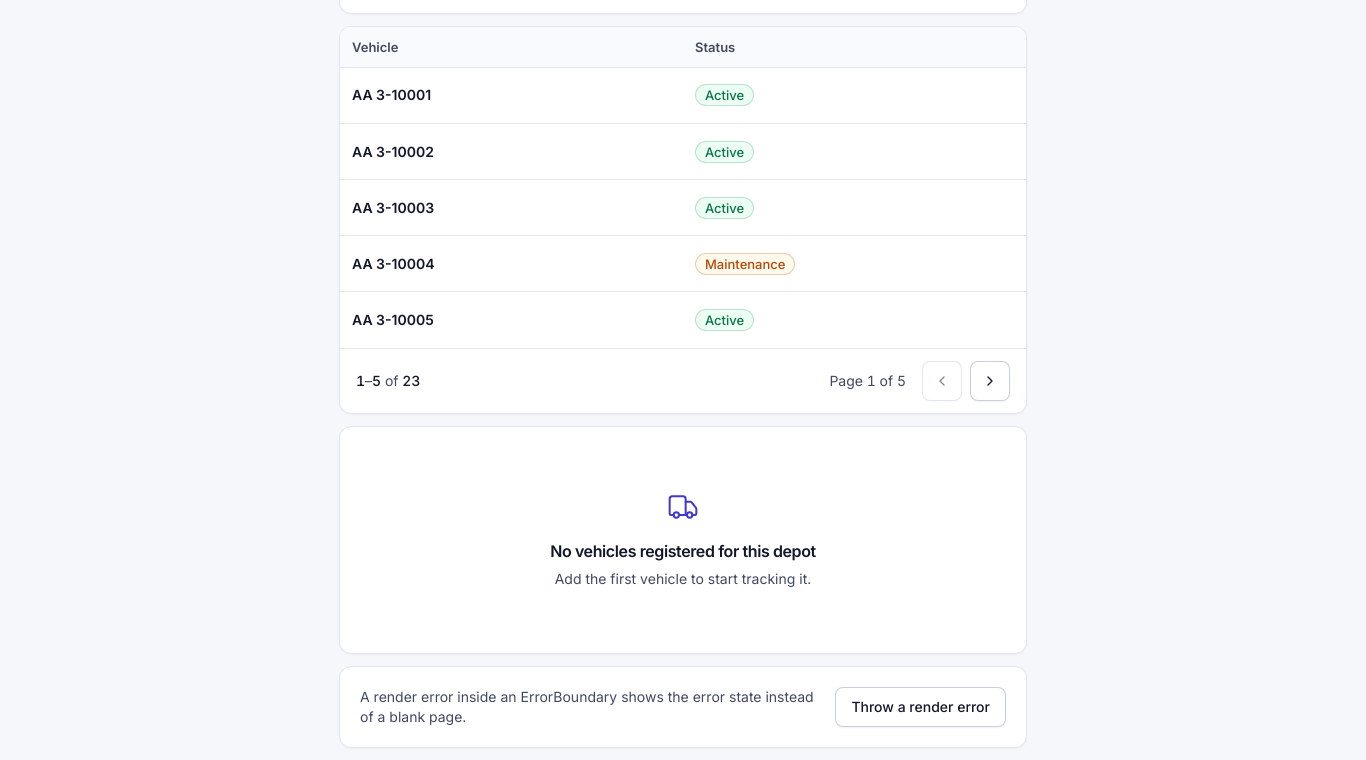
Test case: /dev/ui examples page › shows the table, error boundary and type-to-confirm examples working
This screenshot has width=1366, height=760.
(page scrolled)
Check: the table named "Paging example" is shown, box [340,27,1026,348]
Click the button named "Next page".
click(990, 380)  # box [970,360,1010,400]
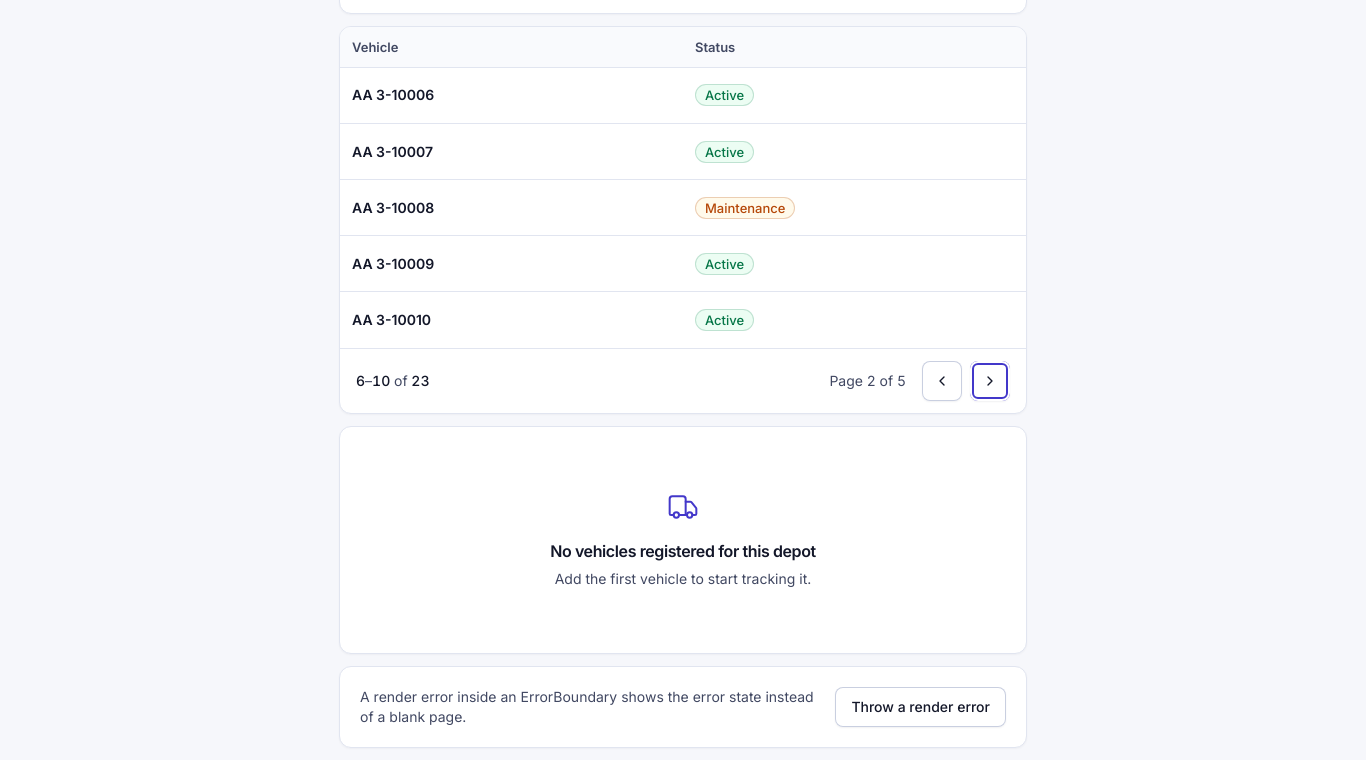
Check: the text "AA 3-10006" is shown, box [352,86,434,103]
Click the button "Throw a render error".
click(921, 706)  # box [835,686,1006,726]
(page scrolled)
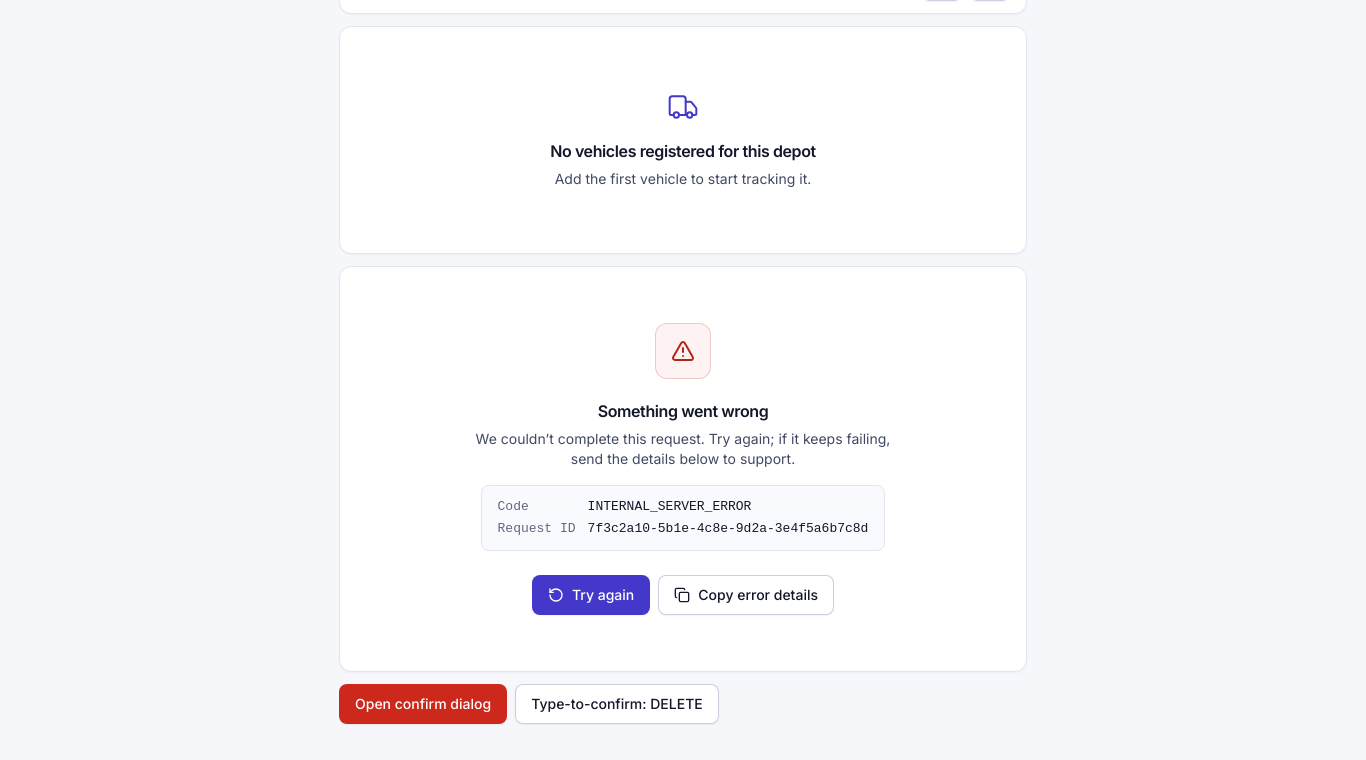
Check: the text "7f3c2a10-5b1e-4c8e-9d2a-3e4f5a6b7c8d" is shown, box [588,520,868,538]
Click the button "Try again".
click(591, 594)  # box [532,574,650,614]
(page scrolled)
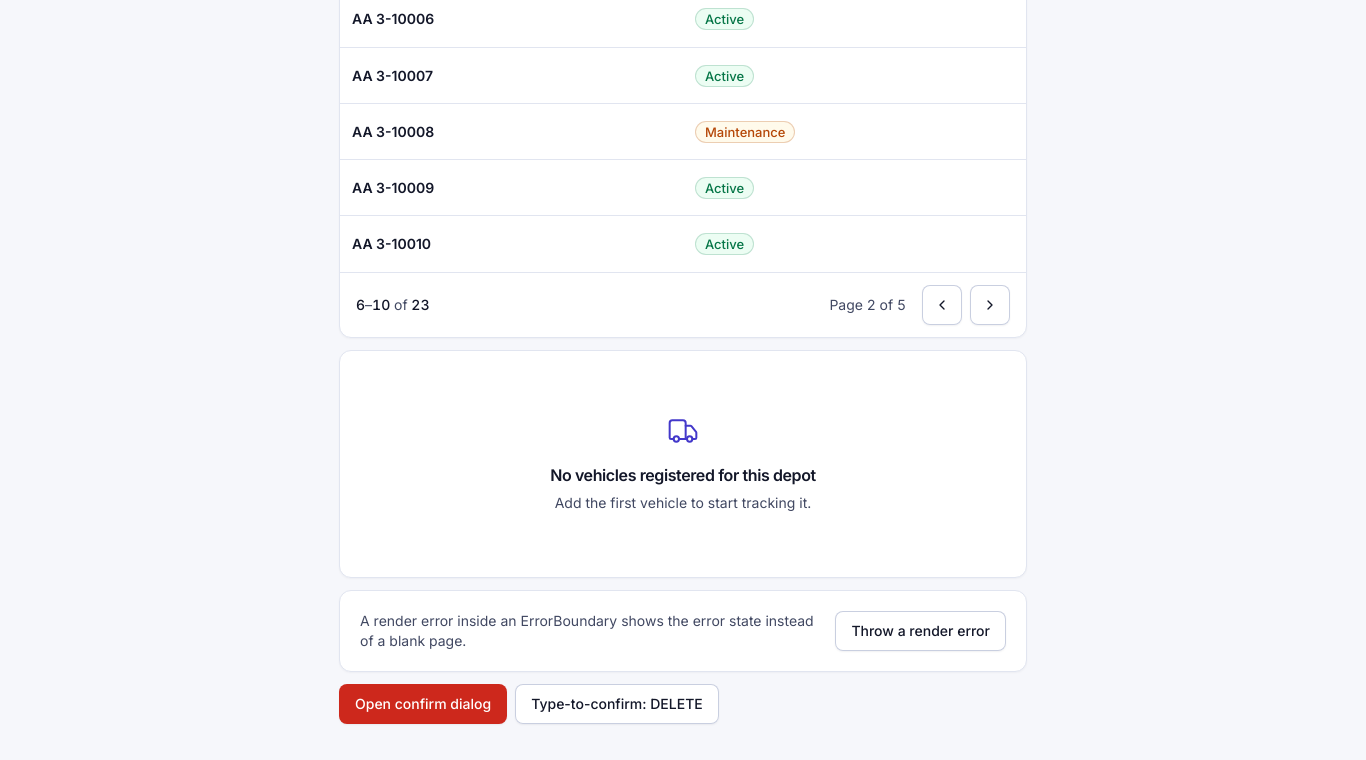
Check: the button "Throw a render error" is shown, box [835,610,1006,650]
Click the button "Type-to-confirm: DELETE".
click(617, 704)  # box [515,684,719,724]
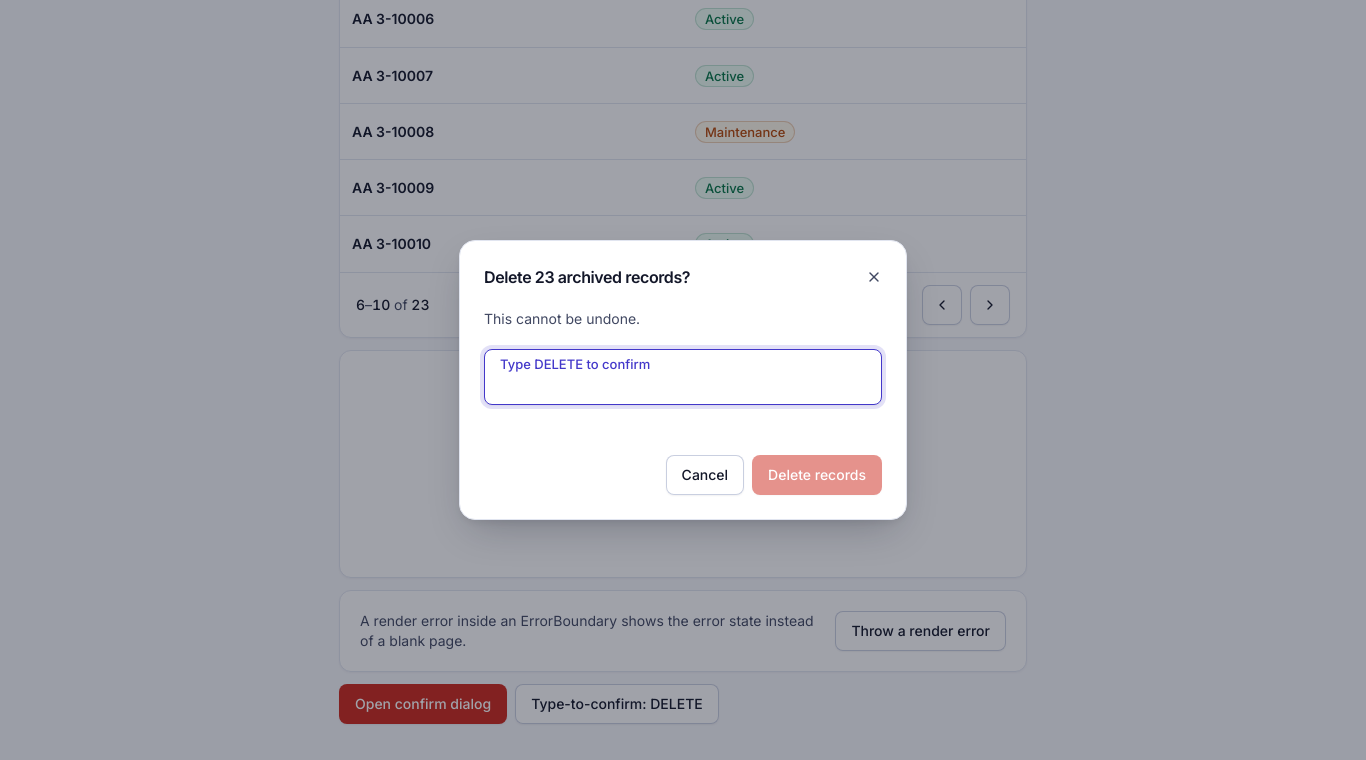
Check: the button "Delete records" is disabled, box [752,455,882,495]
Type "DELETE" into the field labelled "Type DELETE to confirm".
click(683, 377); type("DELETE")  # box [484,349,882,405]
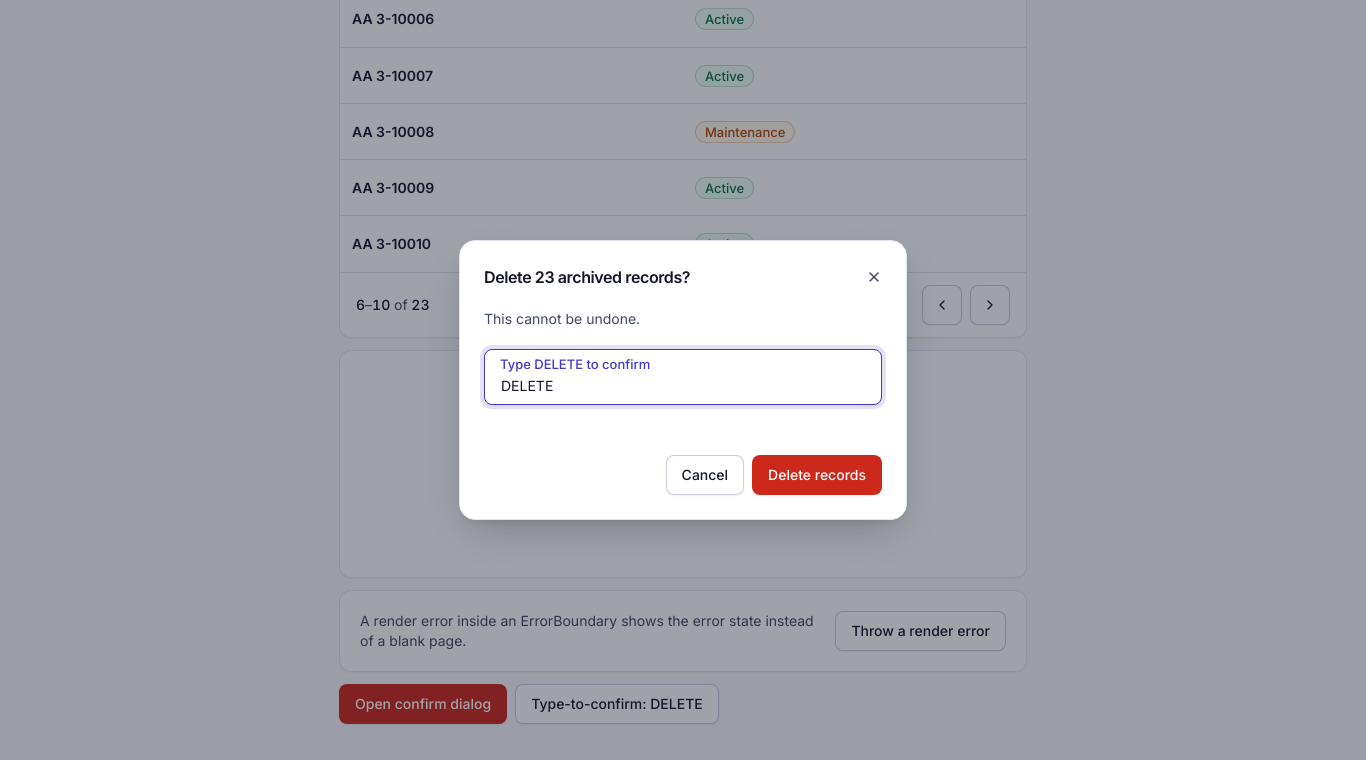
Check: the button "Delete records" is enabled, box [752,455,882,495]
